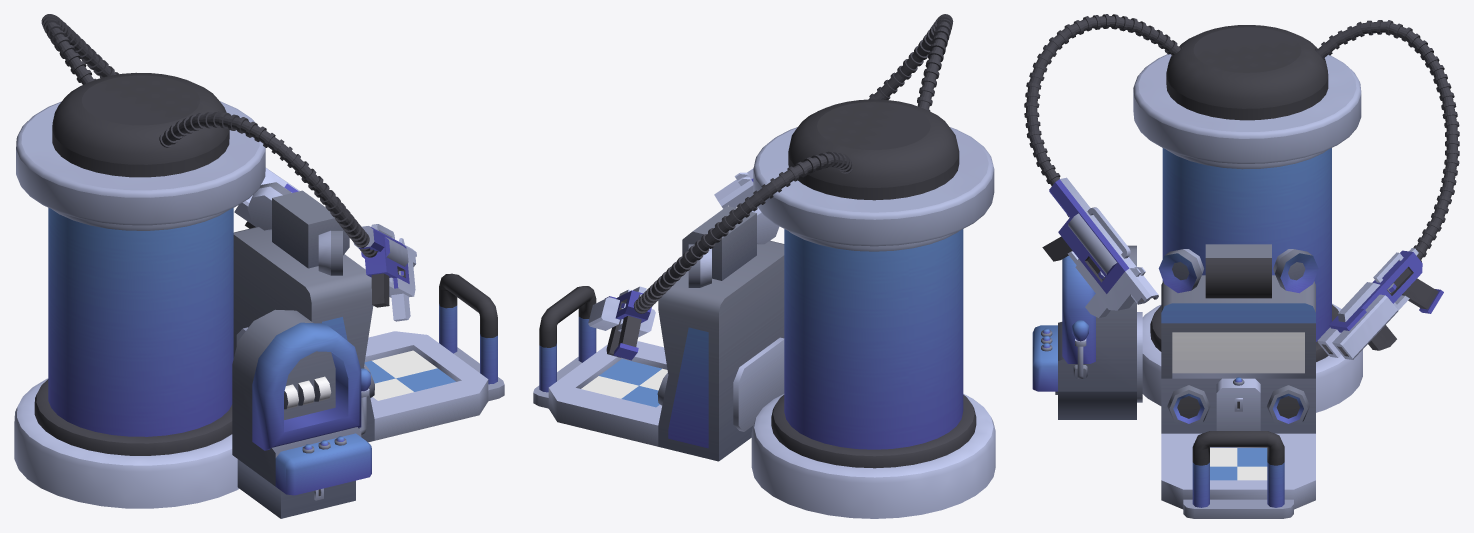
The model's file is Machine_Blue.fbx.
3 views of the same model, side by side, from view 1: azimuth 30°, elevation 25°; view 2: azimuth 150°, elevation 25°; view 3: azimuth 270°, elevation 25° (orthographic). The views are drawn at different scales.
Parts seen in each view (by area): view 1: machine_blue; view 2: machine_blue; view 3: machine_blue.
Part boxes in pixels (x1,y1,x2,y2): machine_blue: (14,14,504,518); machine_blue: (533,14,995,518); machine_blue: (1024,14,1459,518).
Bounding box in the file's own units: 843 × 724 × 786.
Materials: 1 (1 with a texture image).
